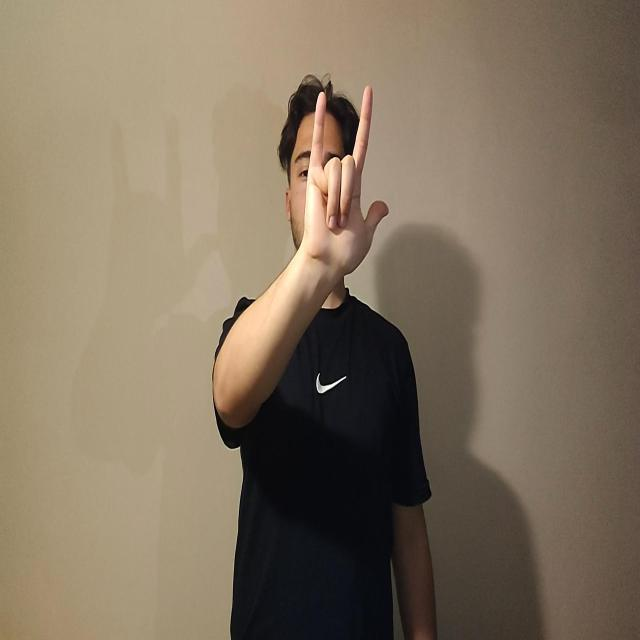iloveyou: (302, 83, 389, 282)
